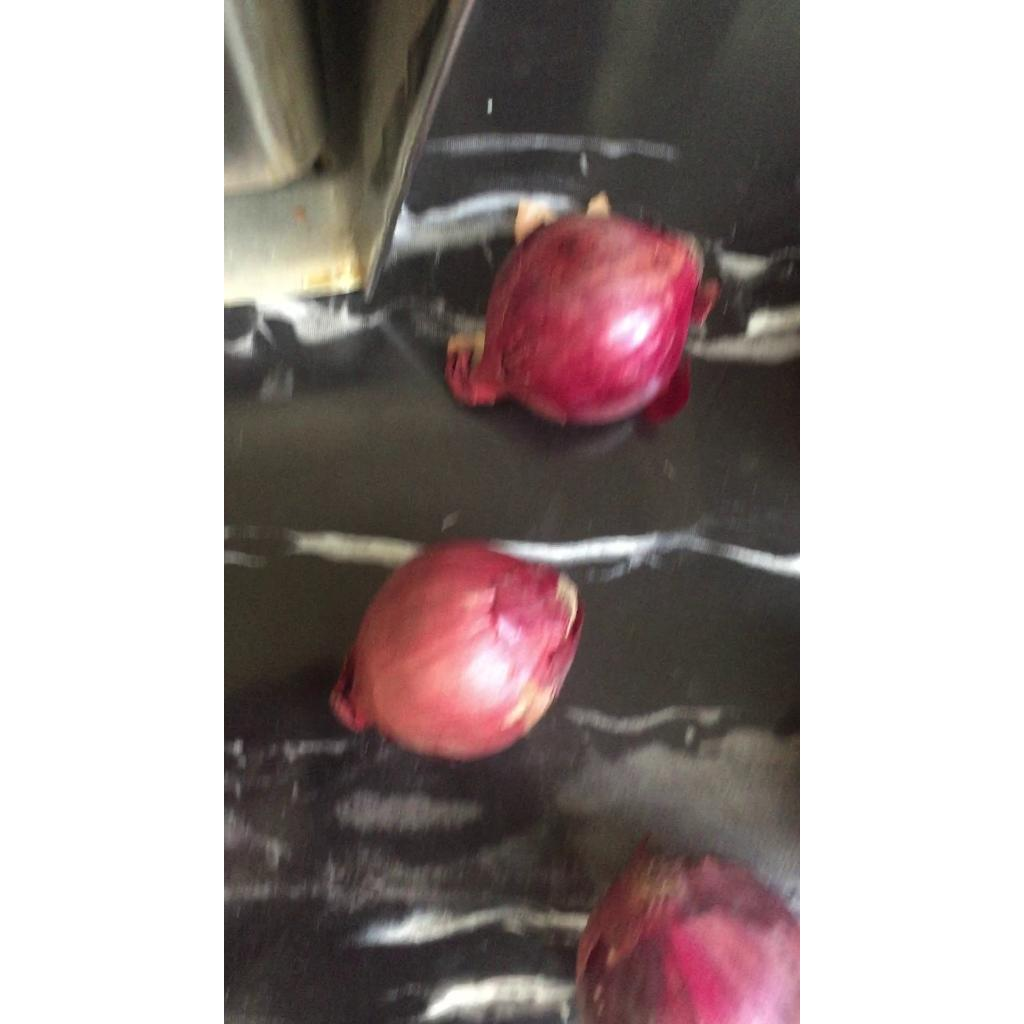Onion: (445, 214, 717, 424), (333, 541, 582, 761), (576, 842, 799, 1024)
